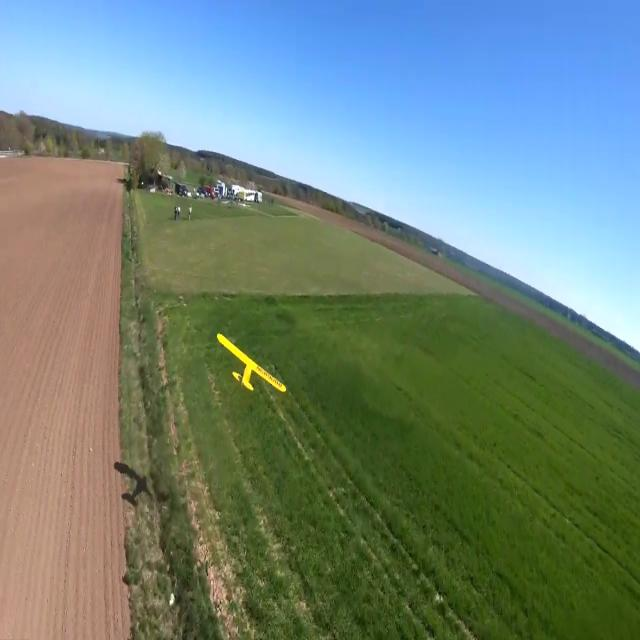iha: (249, 333, 255, 394)
